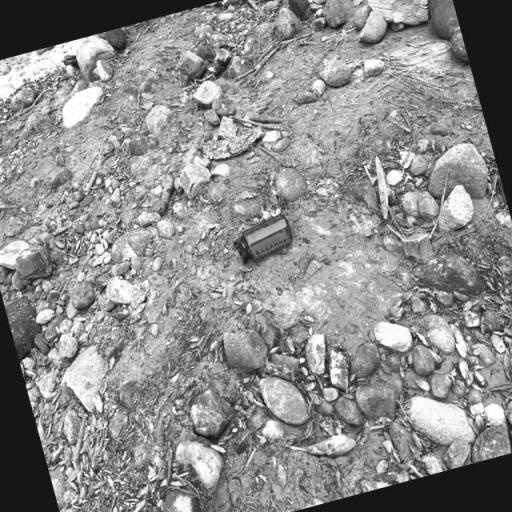bottle: (230, 212, 296, 266)
